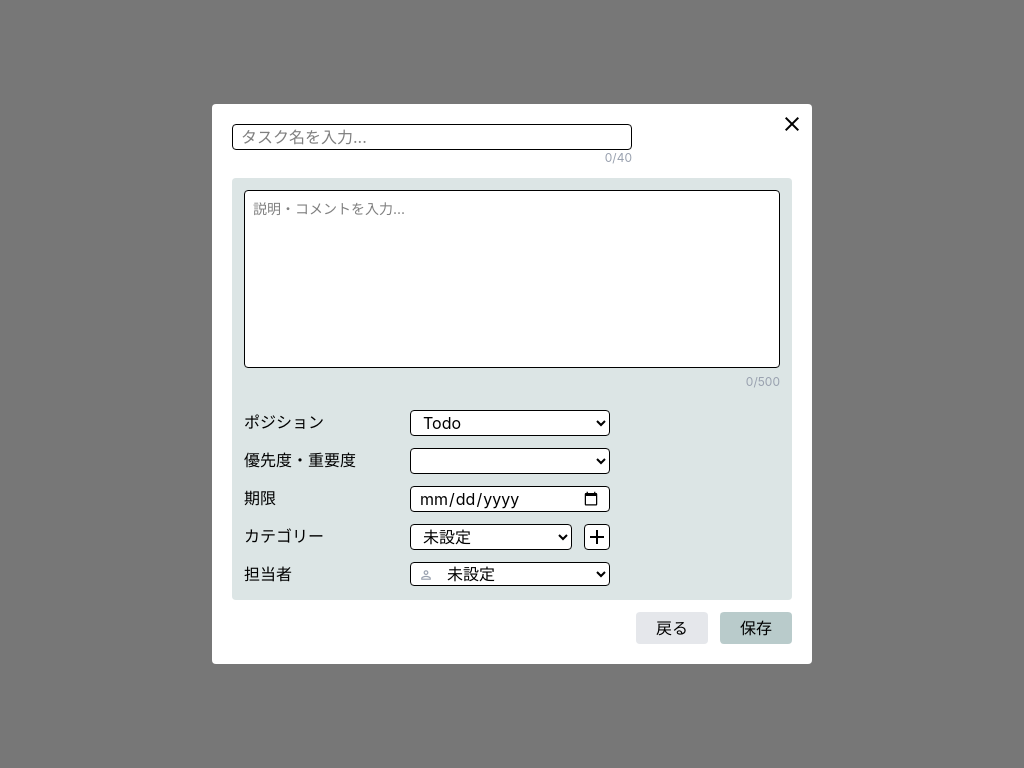
Test: TaskModal（新規） › 担当者を選ぶと選択中のアバターを表示する
Expected: the field labelled "太郎" is not shown
Select "太郎" in the 4th dropdown. click: (510, 574)
box: [410,562,610,586]
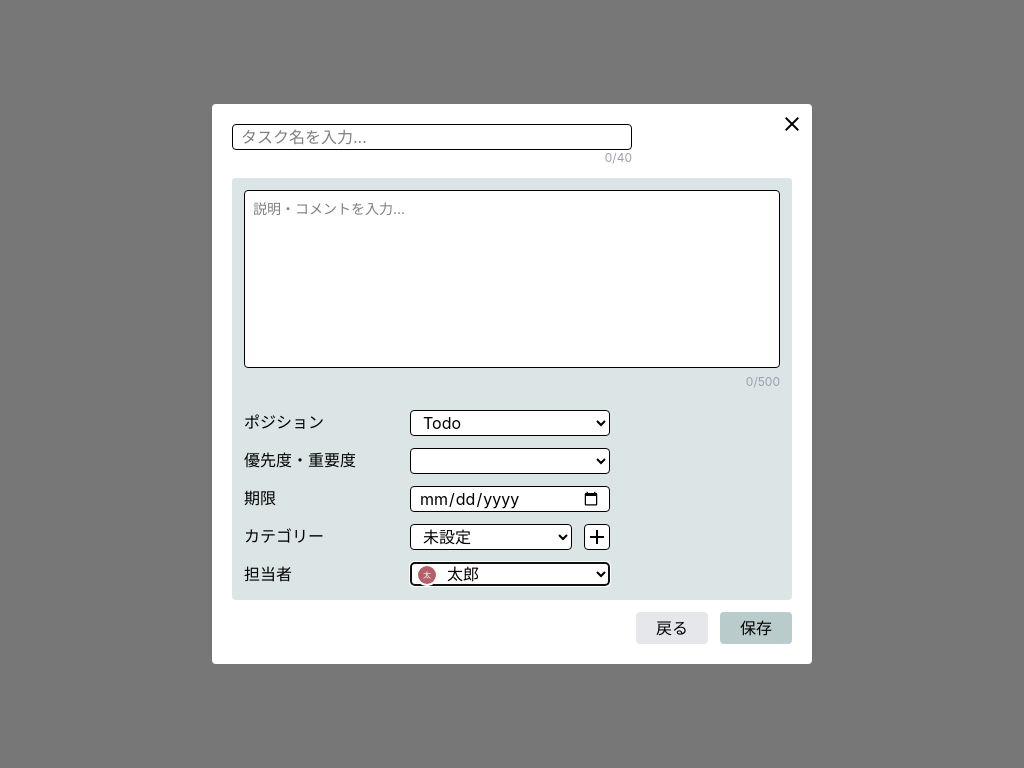
Expected: the text named "太郎" is shown, [418,566,436,584]
